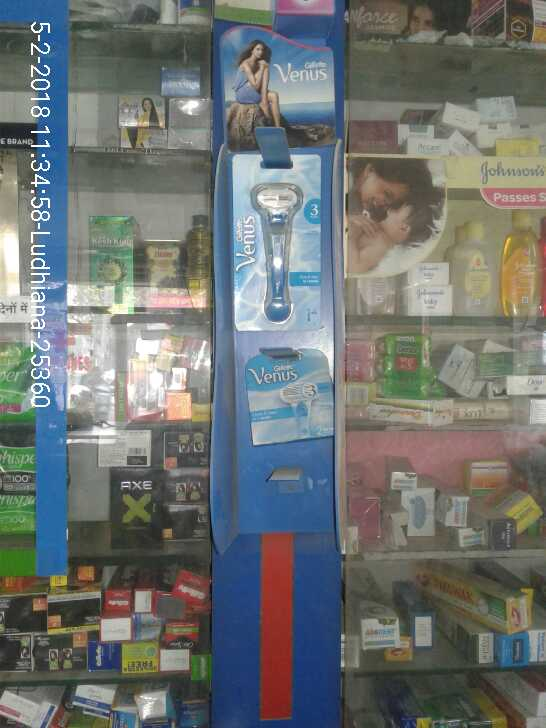venus: (228, 152, 321, 328), (240, 339, 348, 451)
